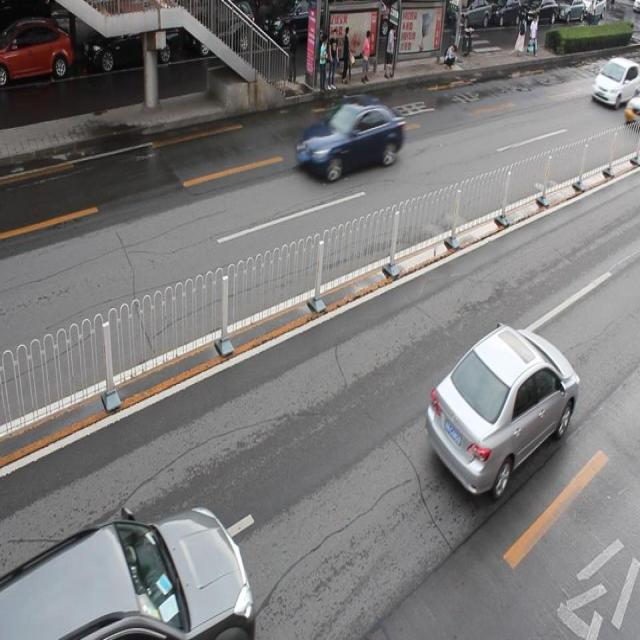car: (1, 508, 253, 640), (425, 321, 578, 493), (296, 96, 404, 177), (82, 11, 177, 71), (1, 17, 73, 84), (185, 1, 254, 52), (260, 1, 329, 50), (590, 59, 640, 106), (622, 91, 640, 133)
